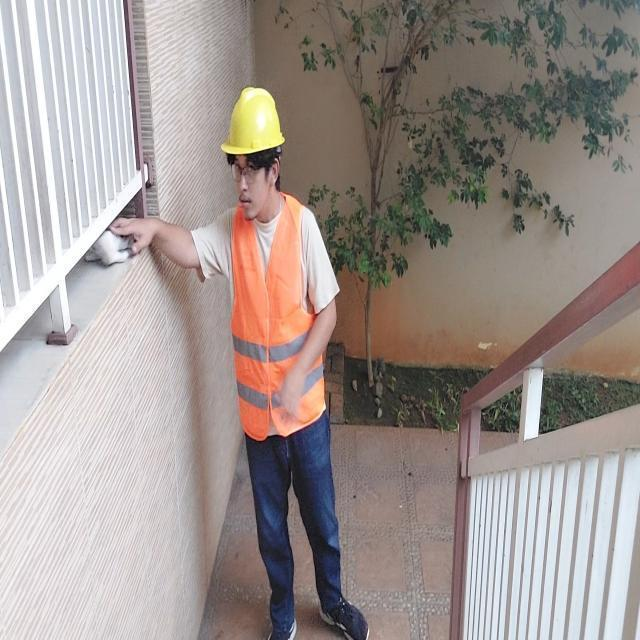Capacete: (221, 87, 284, 154)
Colete: (231, 194, 323, 439)
Oculos: (231, 164, 259, 183)
